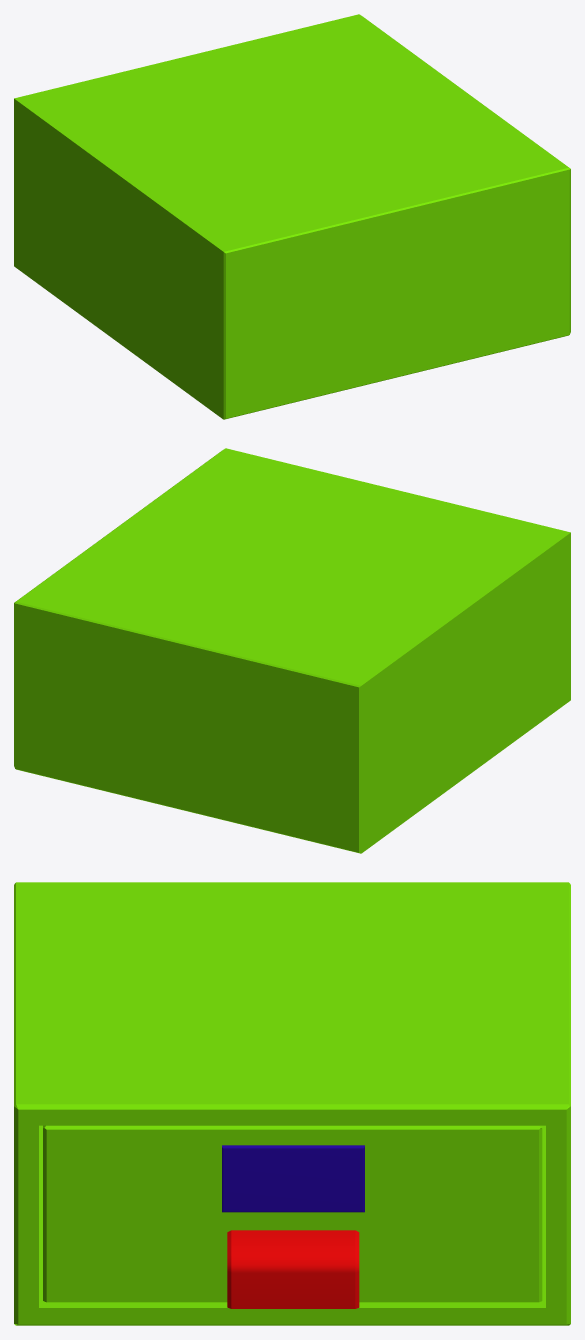
The model's file is armariodocumentos_unico.fbx.
3 renders of one model, top to bottom at view 1: azimuth 30°, elevation 25°; view 2: azimuth 150°, elevation 25°; view 3: azimuth 270°, elevation 25°, orthographic. The views are drawn at different scales.
Parts seen in each view (by area): view 1: polySurface217; view 2: polySurface217; view 3: polySurface217, polySurface215.
Boxes of the visible parts, box(x1,y1,x2,y2) form: polySurface217: box(14, 14, 570, 419); polySurface217: box(14, 448, 570, 853); polySurface217: box(14, 882, 570, 1325); polySurface215: box(43, 1125, 542, 1308).
Bounding box in the file's own units: 73.18 × 31.06 × 70.84.
